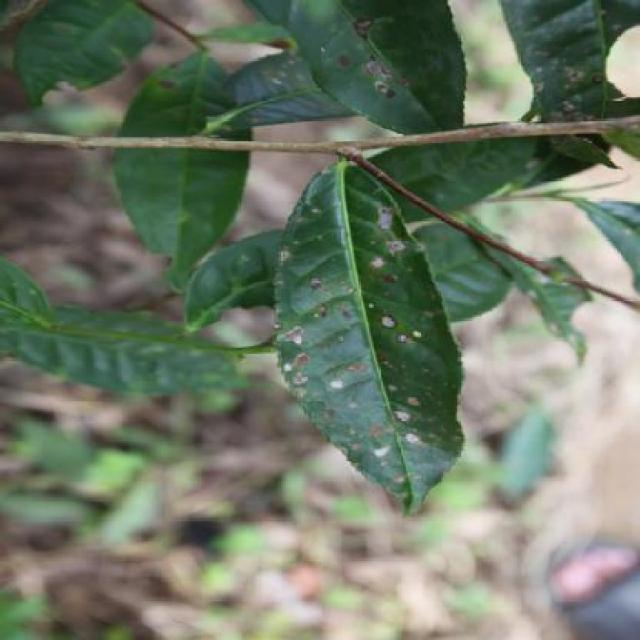Leaf rust of tea: (275, 180, 460, 546)
